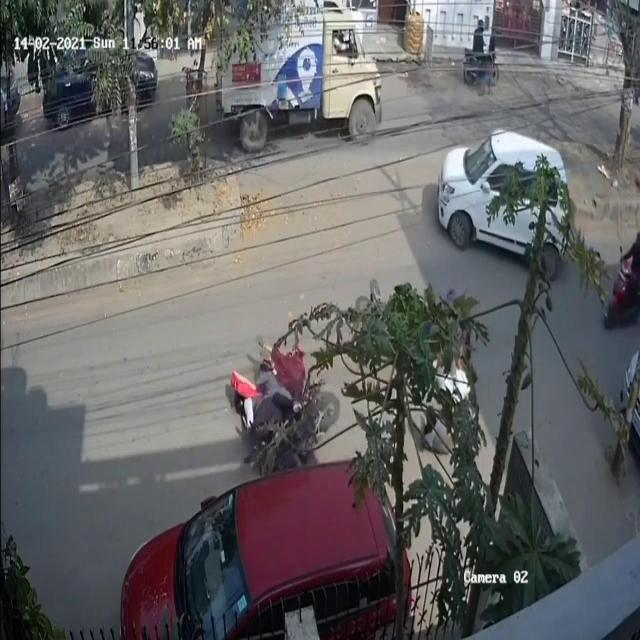accident: (214, 321, 340, 486)
